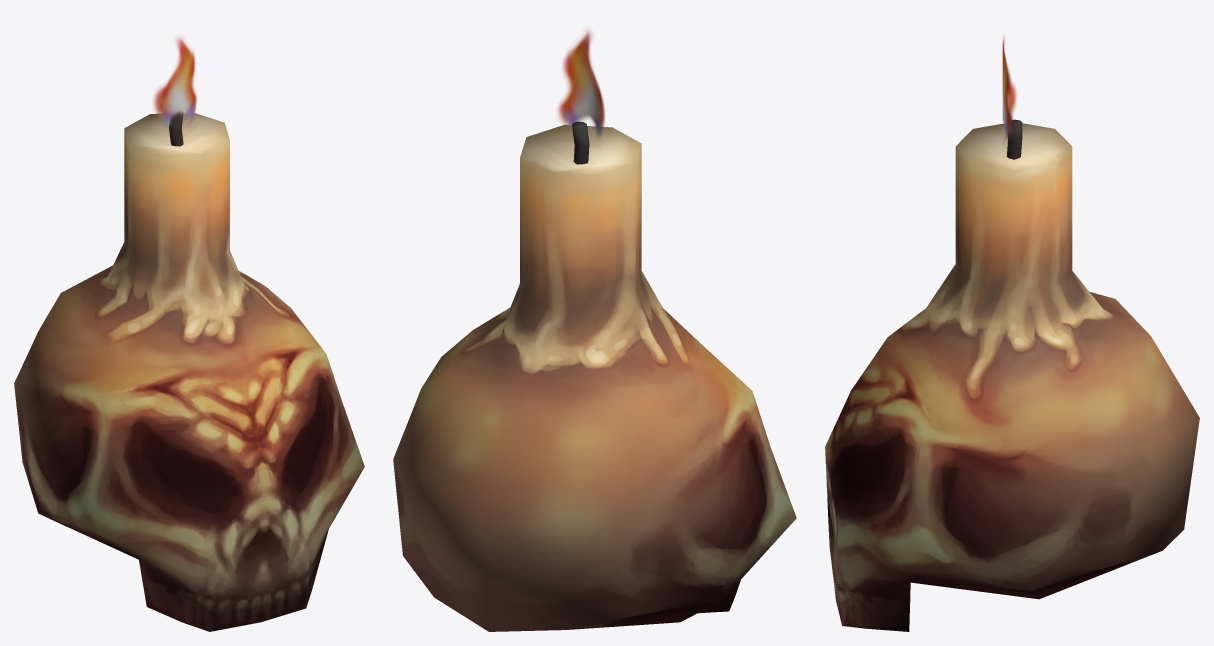
3 renders of one model, left to right at view 1: azimuth 30°, elevation 25°; view 2: azimuth 150°, elevation 25°; view 3: azimuth 270°, elevation 25°, orthographic. The views are drawn at different scales.
Parts seen in each view (by area): view 1: skull-candle.001; view 2: skull-candle.001; view 3: skull-candle.001.
Boxes of the visible parts, left/top/right/bottom form: skull-candle.001: left=14, top=38, right=364, bottom=631; skull-candle.001: left=393, top=31, right=796, bottom=631; skull-candle.001: left=825, top=38, right=1199, bottom=631.
Bounding box in the file's own units: 1.93 × 3.74 × 2.2.
Materials: 1 (1 with a texture image).
